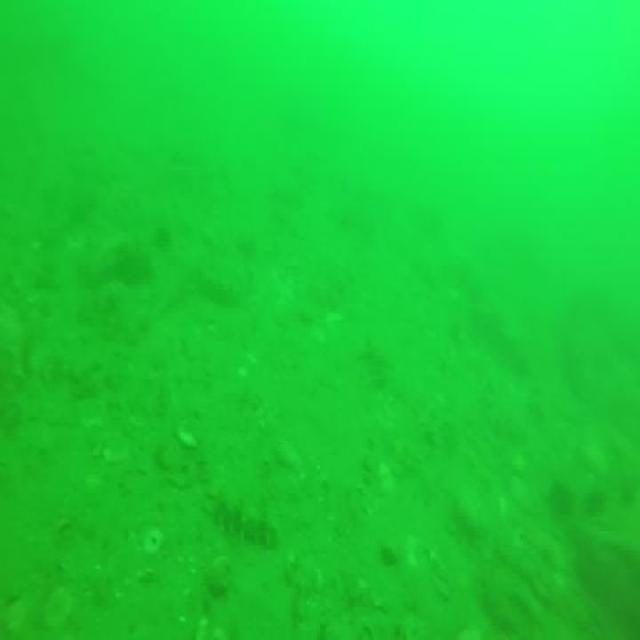holothurian: (215, 493, 278, 552)
scallop: (146, 522, 162, 554), (179, 427, 197, 447)
